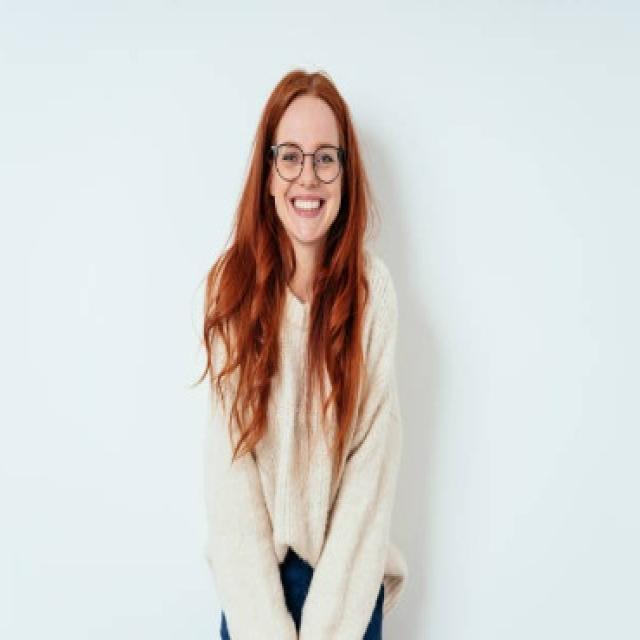adult: (187, 54, 406, 640)
